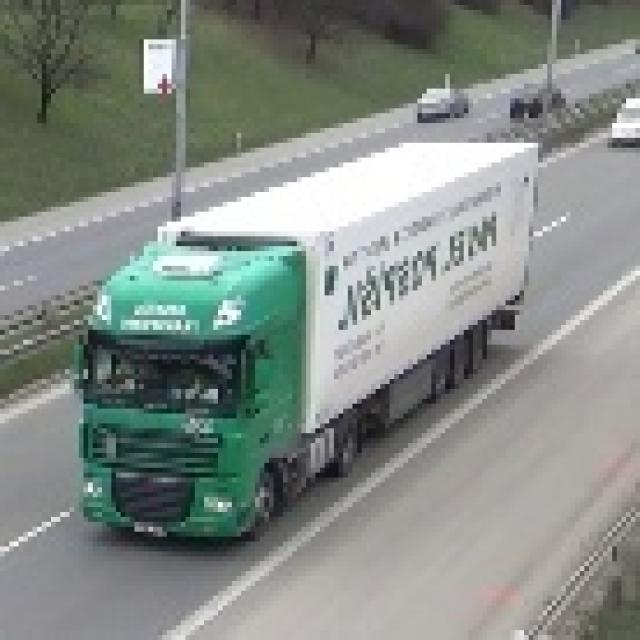TRUCK: (70, 140, 539, 551)
